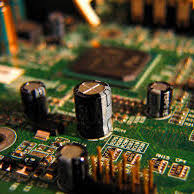Capacitor: (72, 78, 113, 140), (54, 142, 91, 190), (20, 80, 46, 122), (146, 80, 172, 118)
